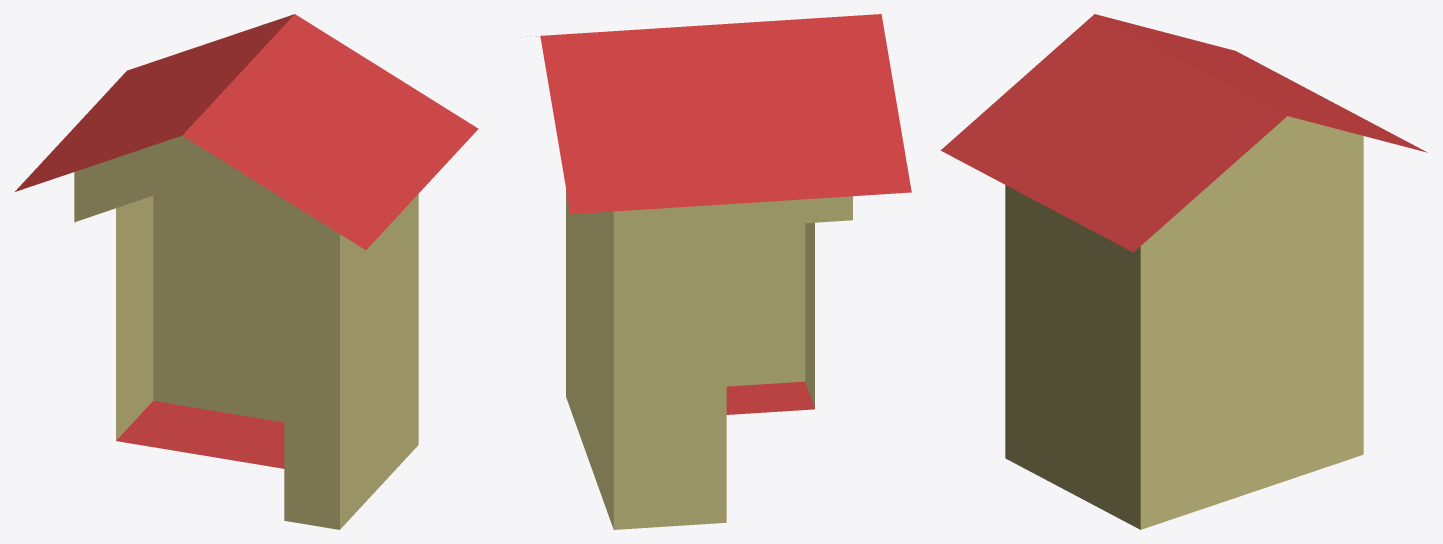
The picture shows the model from 3 angles, left to right: view 1: azimuth 30°, elevation 25°; view 2: azimuth 150°, elevation 25°; view 3: azimuth 270°, elevation 25°; orthographic projection. The views are drawn at different scales.
Size of the model in its own units: 7.74 by 7.91 by 6.97.
